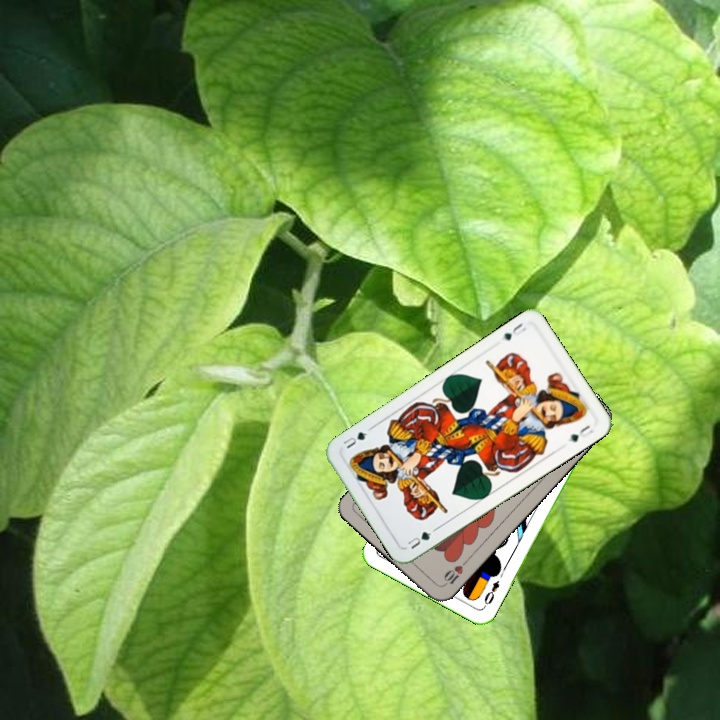EO: (479, 576, 502, 611)
GU: (403, 527, 434, 552), (499, 319, 529, 343)
H10: (439, 555, 471, 589)
